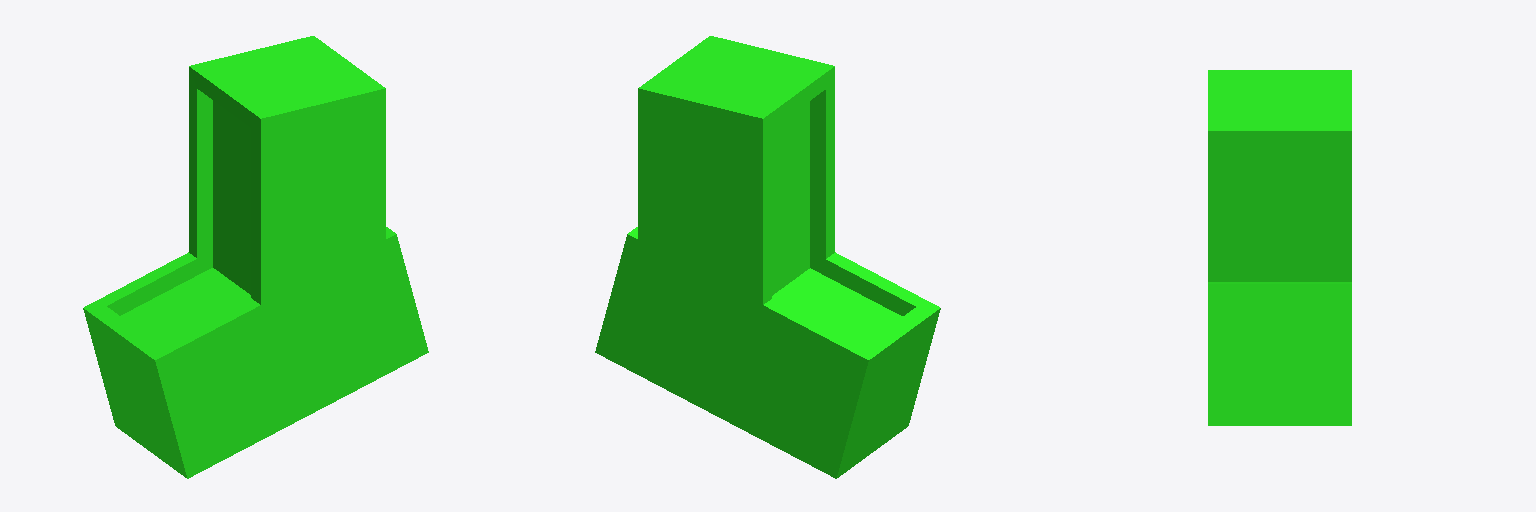
The model's file is Decor_plant.obj.
The picture shows the model from 3 angles: view 1: azimuth 30°, elevation 25°; view 2: azimuth 150°, elevation 25°; view 3: azimuth 270°, elevation 25°; orthographic projection.
Parts seen in each view (by area): view 1: Decor_plant; view 2: Decor_plant; view 3: Decor_plant.
Boxes of the visible parts, box(x1,y1,x2,y2) form: Decor_plant: box(83, 36, 428, 478); Decor_plant: box(595, 36, 940, 478); Decor_plant: box(1208, 70, 1351, 425).
Size of the model in its own units: 2.19 by 2.62 by 1.